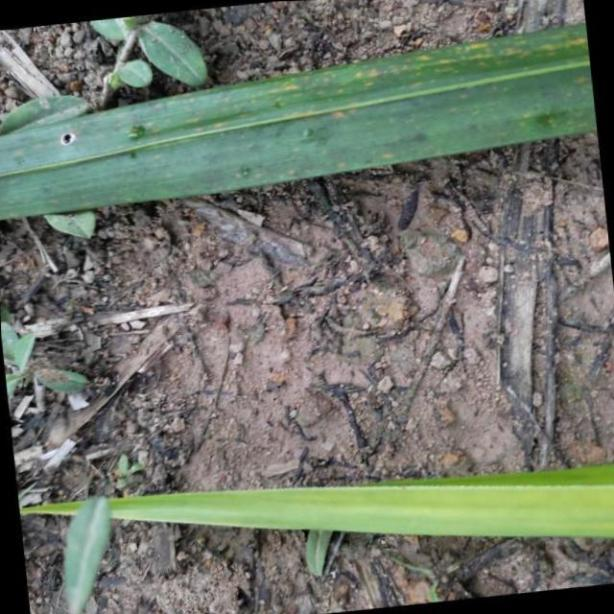nitrogen: (19, 470, 614, 544)
